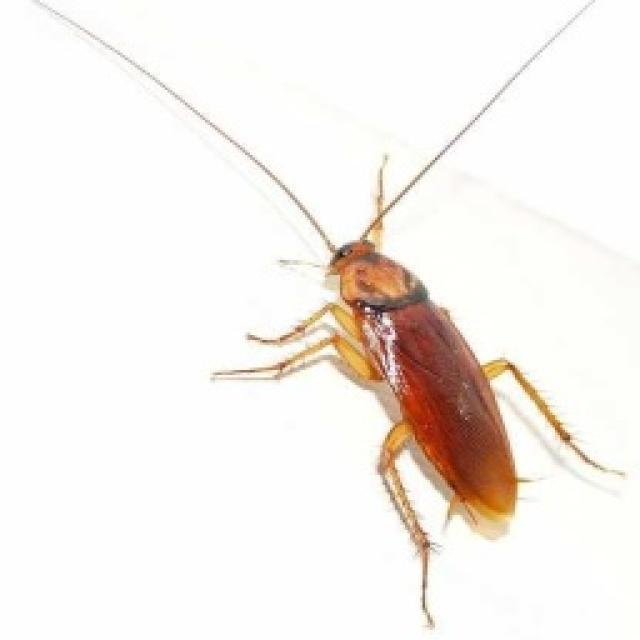cockroach: (217, 143, 600, 610)
